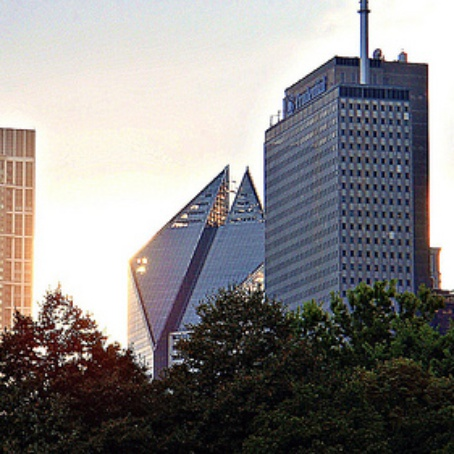building: (259, 60, 425, 346), (122, 161, 266, 391)
sky: (54, 1, 269, 302)
vegetation: (1, 301, 454, 454)
